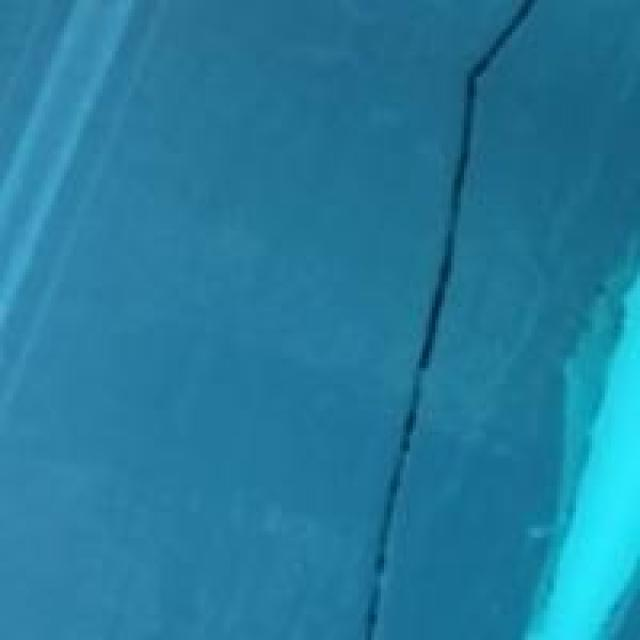crack: (282, 0, 588, 637)
